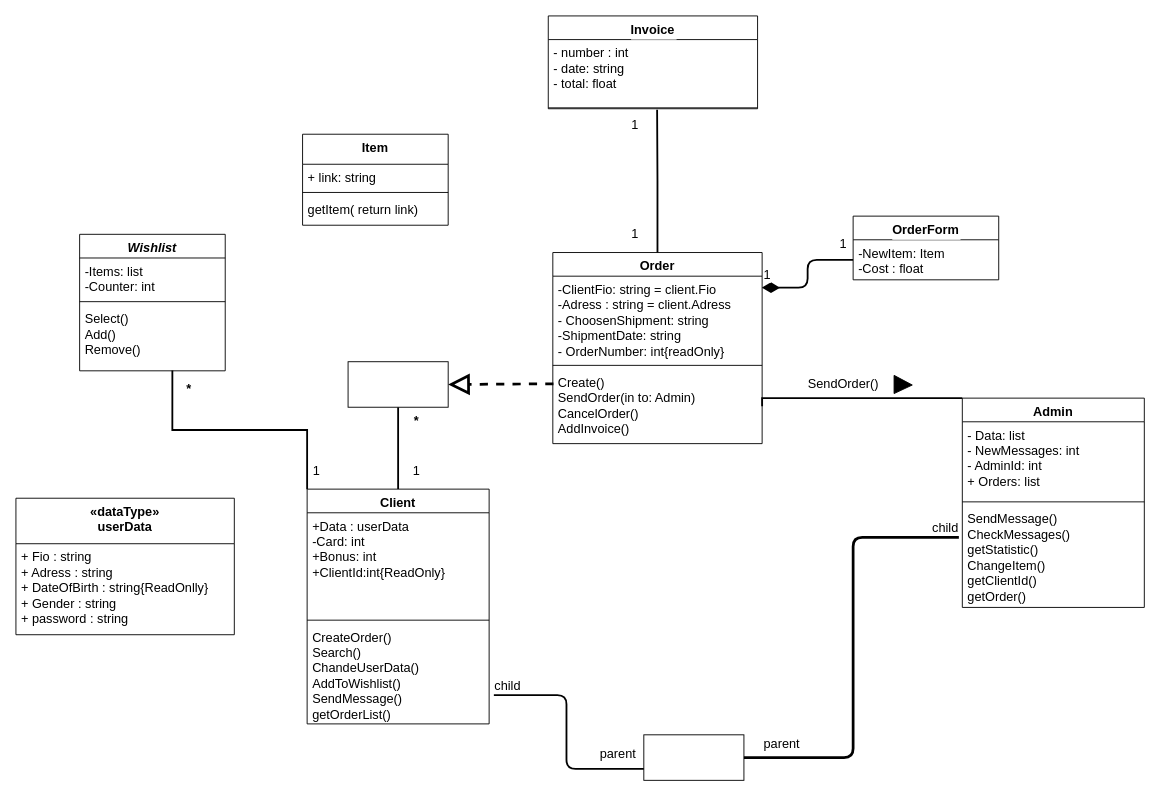
This 1160x796 diagram has some shape labels left out. Here are the shapes that lost their labels. From the top down, the centre of each, then its label:
[397,384]: «interface» CreateOrder
[693,757]: Person
